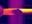Hotspot: (20, 9, 31, 13)
